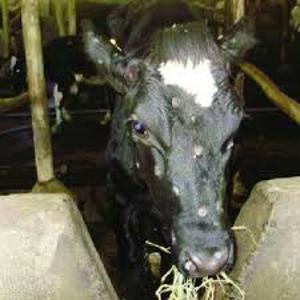lumpy skin diesease: (78, 0, 259, 280)
